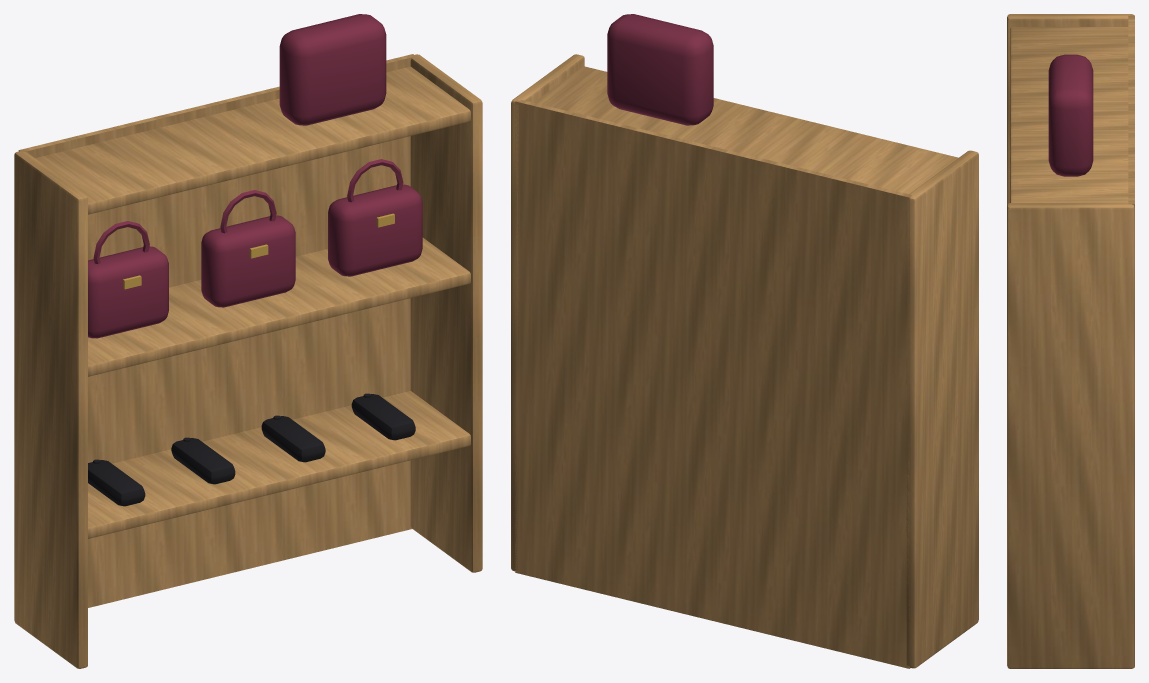
File: prateleira-de-bolsas.glb
3 views of the same model, side by side, from view 1: azimuth 30°, elevation 25°; view 2: azimuth 150°, elevation 25°; view 3: azimuth 270°, elevation 25° (orthographic).
Visible parts, largest first — view 1: fundo, lateral, lateral.001, tabua.002, tabua, tabua.001, bolsa-grande, bolsa.002, bolsa.001, bolsa, sapato.002, sapato.003 (+2 smaller); view 2: fundo, lateral, tabua.002, bolsa-grande, lateral.001; view 3: lateral.001, tabua.002, bolsa-grande, lateral, fundo.
Part boxes in pixels (x1=…): fundo: x1=18, y1=54, x2=414, y2=607; lateral: x1=14, y1=151, x2=87, y2=668; lateral.001: x1=410, y1=54, x2=482, y2=572; tabua.002: x1=35, y1=66, x2=470, y2=214; tabua: x1=88, y1=391, x2=470, y2=538; tabua.001: x1=88, y1=237, x2=470, y2=376; bolsa-grande: x1=279, y1=14, x2=386, y2=125; bolsa.002: x1=328, y1=184, x2=422, y2=276; bolsa.001: x1=201, y1=215, x2=295, y2=307; bolsa: x1=88, y1=246, x2=168, y2=338; sapato.002: x1=261, y1=416, x2=325, y2=462; sapato.003: x1=351, y1=394, x2=415, y2=440; fundo: x1=515, y1=100, x2=912, y2=668; lateral: x1=906, y1=150, x2=978, y2=668; tabua.002: x1=534, y1=66, x2=958, y2=194; bolsa-grande: x1=607, y1=14, x2=713, y2=125; lateral.001: x1=511, y1=54, x2=584, y2=571; lateral.001: x1=1007, y1=203, x2=1134, y2=668; tabua.002: x1=1010, y1=27, x2=1128, y2=202; bolsa-grande: x1=1048, y1=54, x2=1093, y2=176; lateral: x1=1007, y1=14, x2=1133, y2=205; fundo: x1=1128, y1=15, x2=1134, y2=667.
Size of the model in its own units: 1.44 by 1.87 by 0.4.
Materials: 4 (1 with a texture image).
